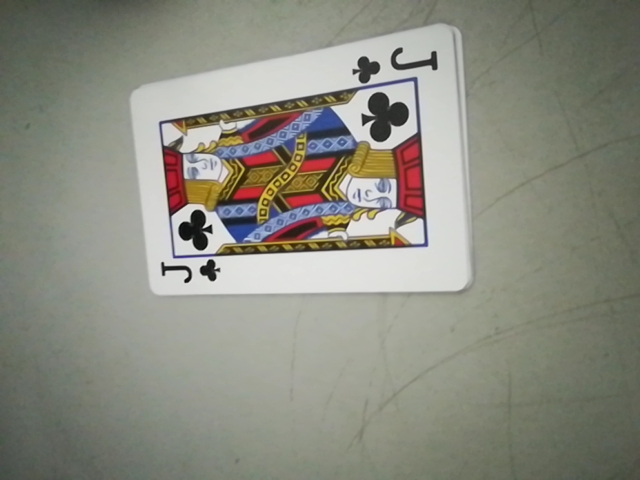mh j: (348, 42, 446, 87), (156, 253, 224, 296)
